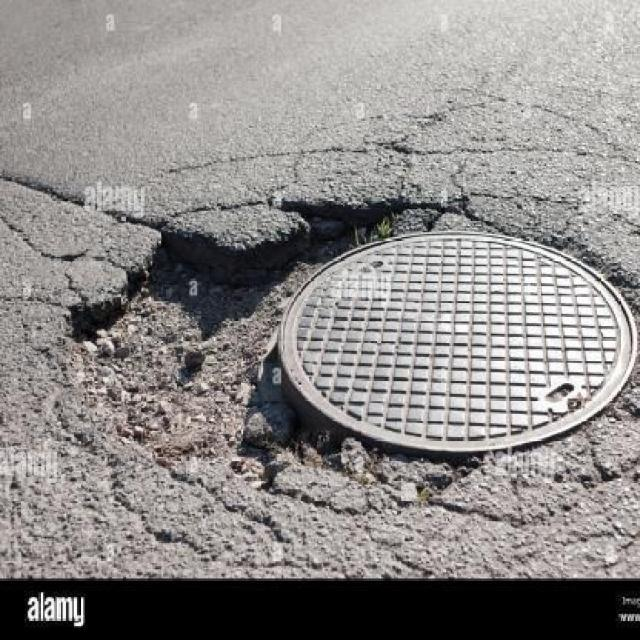Manhole: (280, 216, 640, 458)
Pothole: (62, 192, 290, 356), (269, 187, 457, 234), (248, 422, 343, 488), (262, 220, 350, 268)
